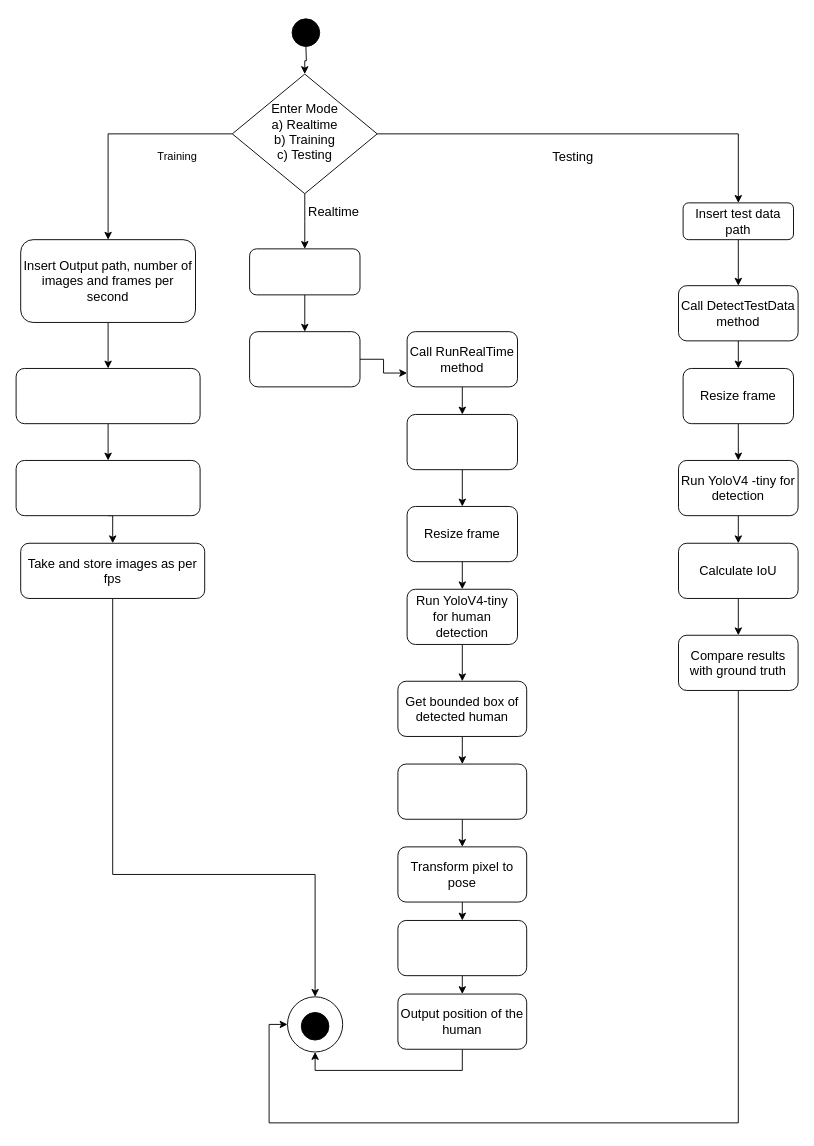
Some shapes in this 814 by 1146 pixel diagram are drawn without their labels. Here are the shapes that lost their labels. From the top down, the centre of each, then its label:
At pixel 304 271: "Insert input path".
At pixel 304 359: "Insert input type (Image/ Video/ Ipcam/ Webcam)".
At pixel 107 396: "Call CollectTrainData function".
At pixel 462 442: "Start camera (for video)".
At pixel 107 488: "Start camera".
At pixel 462 791: "Get center of bounded box".
At pixel 462 948: "Transform robot to world frame".
